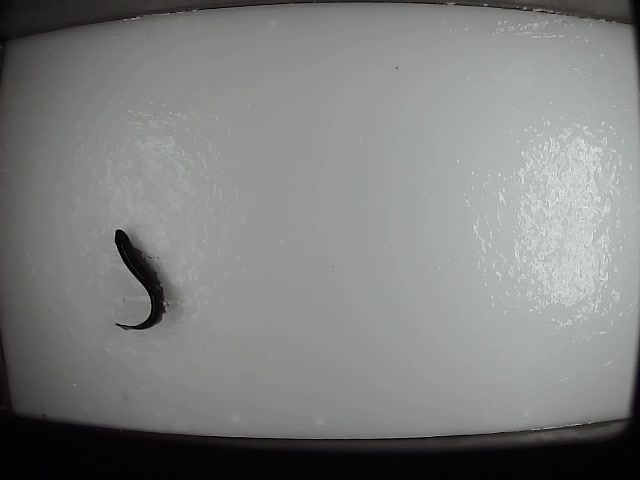fish: (109, 227, 169, 334)
